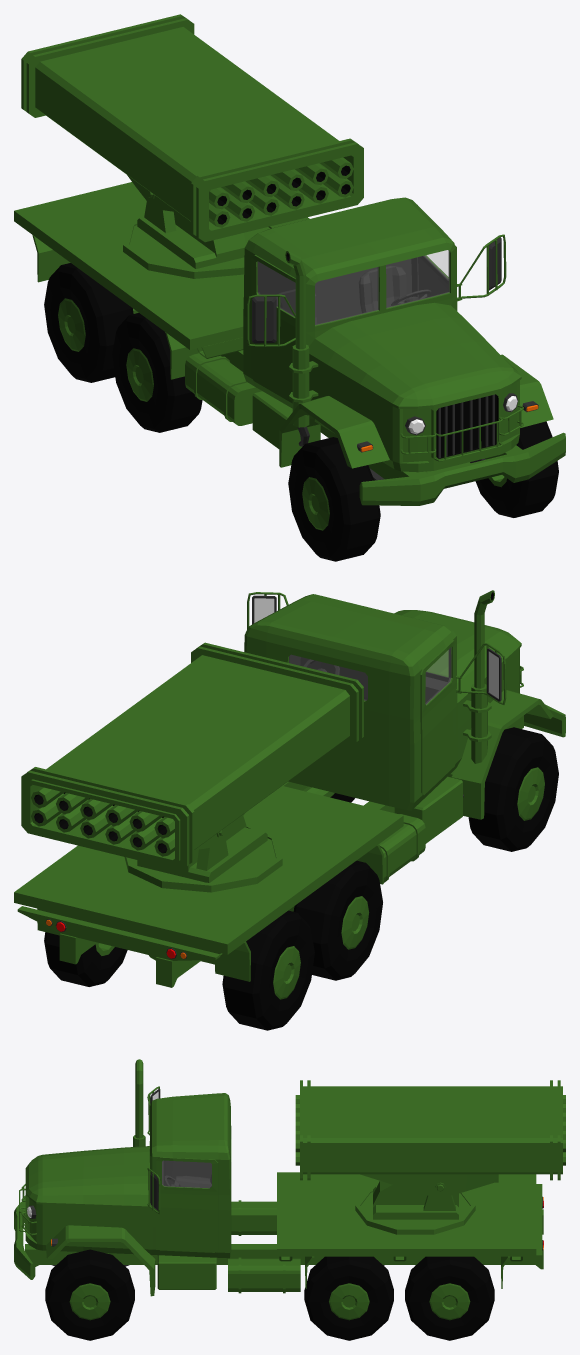
3 views of the same model, one above another, from view 1: azimuth 30°, elevation 25°; view 2: azimuth 150°, elevation 25°; view 3: azimuth 270°, elevation 25° (orthographic). The views are drawn at different scales.
Visible parts, largest first — view 1: Plane, Plane.004, Cylinder.003, Cylinder.002, Cylinder.001, Plane.007, Plane.002, Plane.006, Cylinder, Plane.003, Cylinder.006, Plane.008; view 2: Plane, Plane.004, Cylinder.003, Cylinder.002, Cylinder.001, Plane.006, Plane.003, Cylinder.006, Cylinder.005, Plane.007, Plane.002; view 3: Plane, Plane.004, Cylinder, Cylinder.005, Cylinder.004, Plane.008, Plane.003, Cylinder.006, Plane.006, Plane.007.
Boxes of the visible parts, x1,y1,x2,y2 form: Plane: (14,182,565,505); Plane.004: (21,14,363,242); Cylinder.003: (288,437,380,561); Cylinder.002: (44,263,133,382); Cylinder.001: (112,313,202,432); Plane.007: (259,250,449,324); Plane.002: (315,250,449,324); Plane.006: (251,255,295,403); Cylinder: (475,421,558,517); Plane.003: (137,201,256,268); Cylinder.006: (285,251,318,446); Plane.008: (418,241,454,297); Plane: (14,592,565,987); Plane.004: (21,642,363,870); Cylinder.003: (468,727,558,851); Cylinder.002: (222,910,314,1030); Cylinder.001: (293,860,382,980); Plane.006: (420,640,456,794); Plane.003: (137,816,267,882); Cylinder.006: (463,590,494,797); Cylinder.005: (44,932,127,986); Plane.007: (289,649,449,702); Plane.002: (290,651,447,699); Plane: (14,1086,543,1296); Plane.004: (295,1080,565,1196); Cylinder: (45,1249,134,1340); Cylinder.005: (405,1256,494,1340); Cylinder.004: (304,1256,393,1340); Plane.008: (156,1157,218,1252); Plane.003: (373,1181,458,1219); Cylinder.006: (133,1059,145,1146); Plane.006: (165,1160,211,1185); Plane.007: (162,1160,211,1187).
Bounding box in the file's own units: 293 × 305 × 734.
